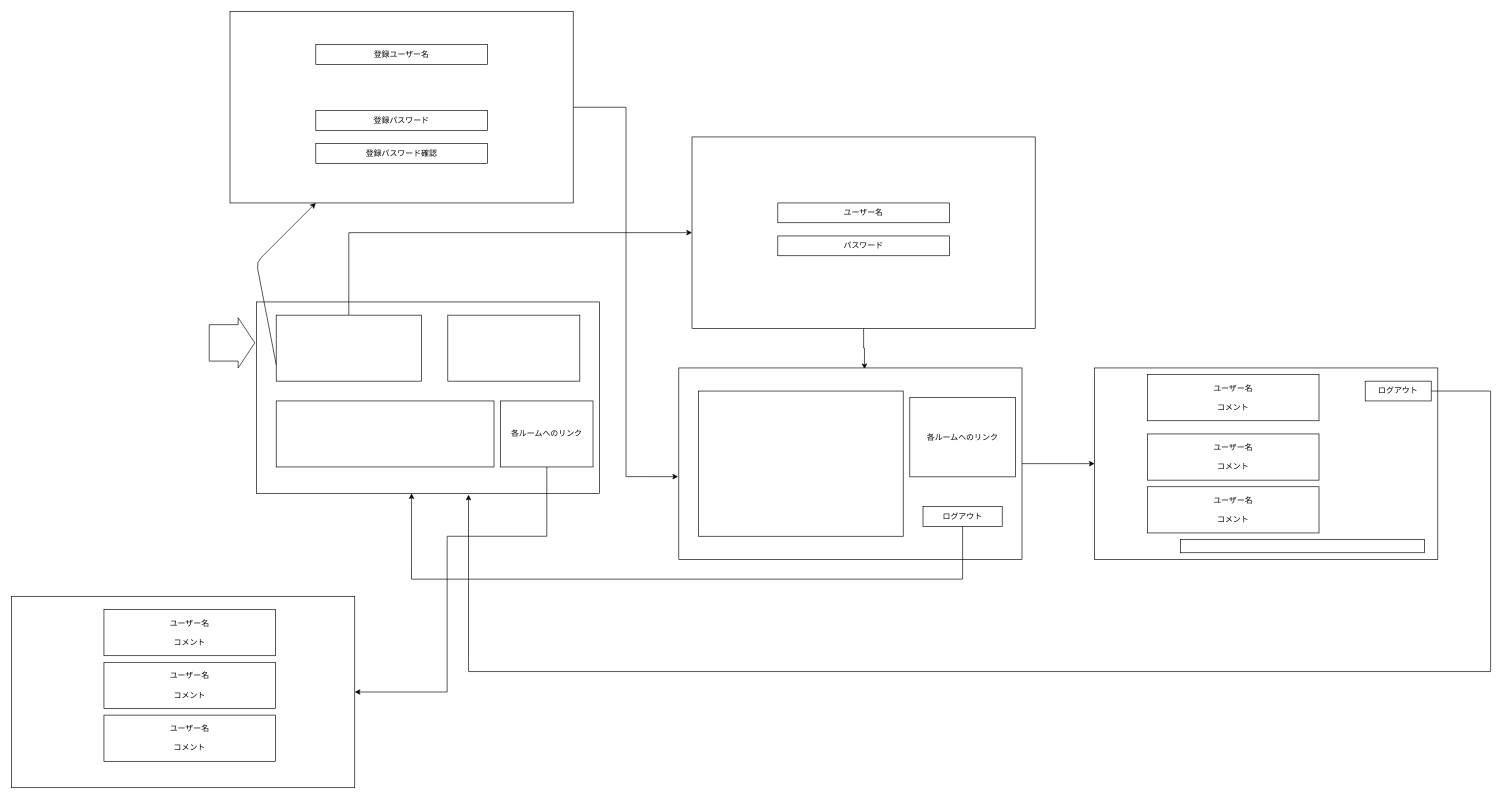
Image size: 1507x799. Some labels were removed from this diagram. The shapes that lost their labels are listed below. From the top down, each one's centre as x and y in pixels, then its label:
At point (348, 347): "ログインフォームの埋め込み,又は埋め込み 登録ページヘのリンク".
At point (513, 347): "リマインダー".
At point (385, 433): "最新のn件のチャット".
At point (800, 463): "リマインダー (登録)".
At point (1302, 546): "入力フォーム".
